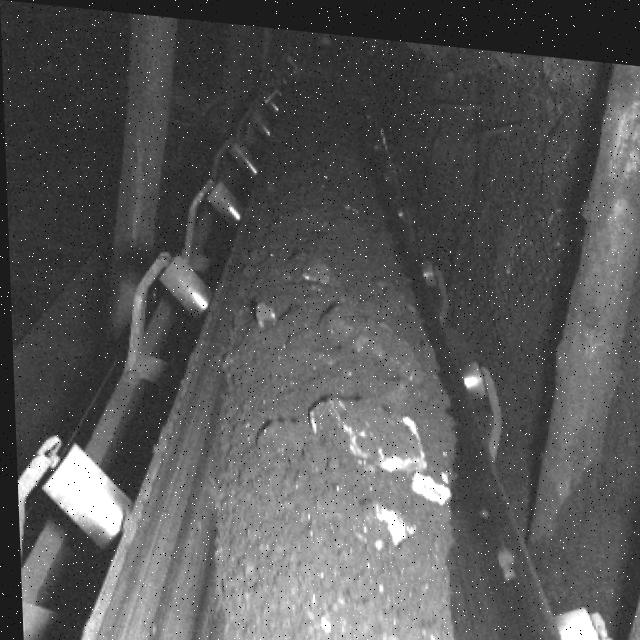large_sized_coal: (301, 388, 429, 469), (324, 297, 421, 372), (360, 492, 408, 546), (407, 462, 447, 497)
